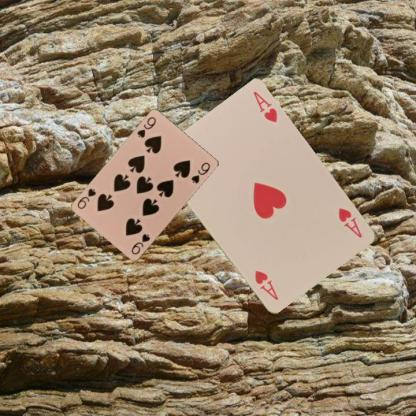9s: (134, 115, 157, 140), (129, 231, 151, 256)
Ah: (336, 205, 364, 239)
